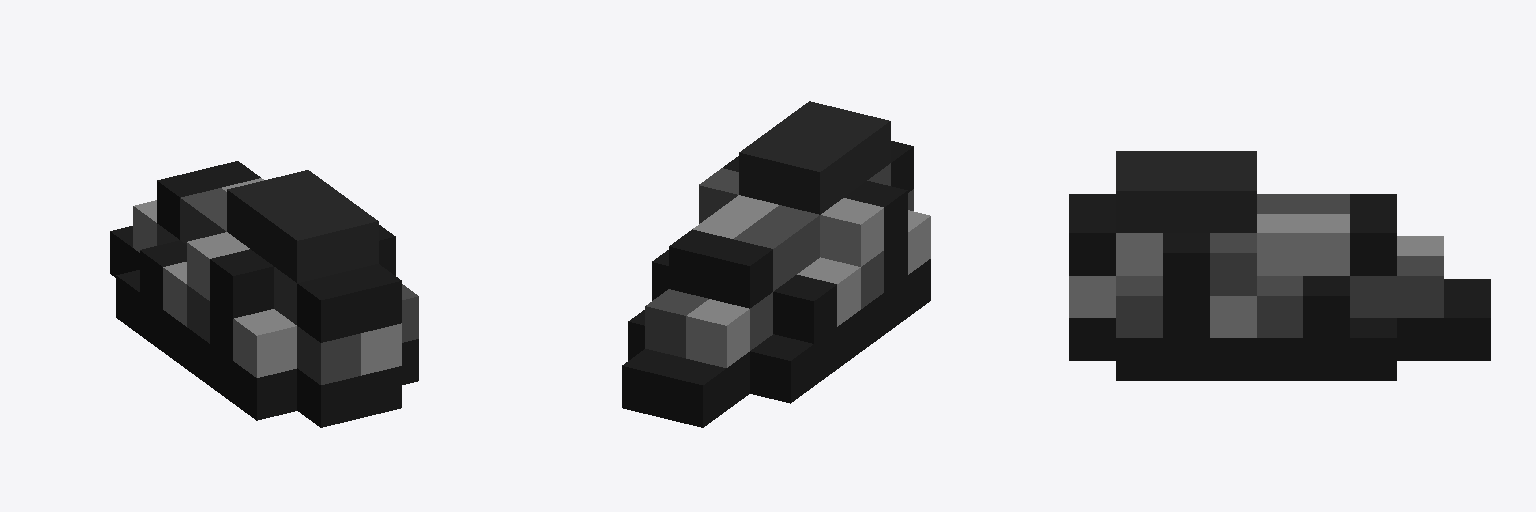
3 renders of one model, left to right at view 1: azimuth 30°, elevation 25°; view 2: azimuth 150°, elevation 25°; view 3: azimuth 270°, elevation 25°, orthographic.
Visible parts, largest first — view 1: object 1; view 2: object 1; view 3: object 1.
Boxes of the visible parts, <box> form: object 1: <box>110,161,418,427</box>; object 1: <box>622,101,930,427</box>; object 1: <box>1069,151,1490,380</box>.
Size of the model in its own units: 0.4 by 0.4 by 0.9.
1 materials, 1 textured.